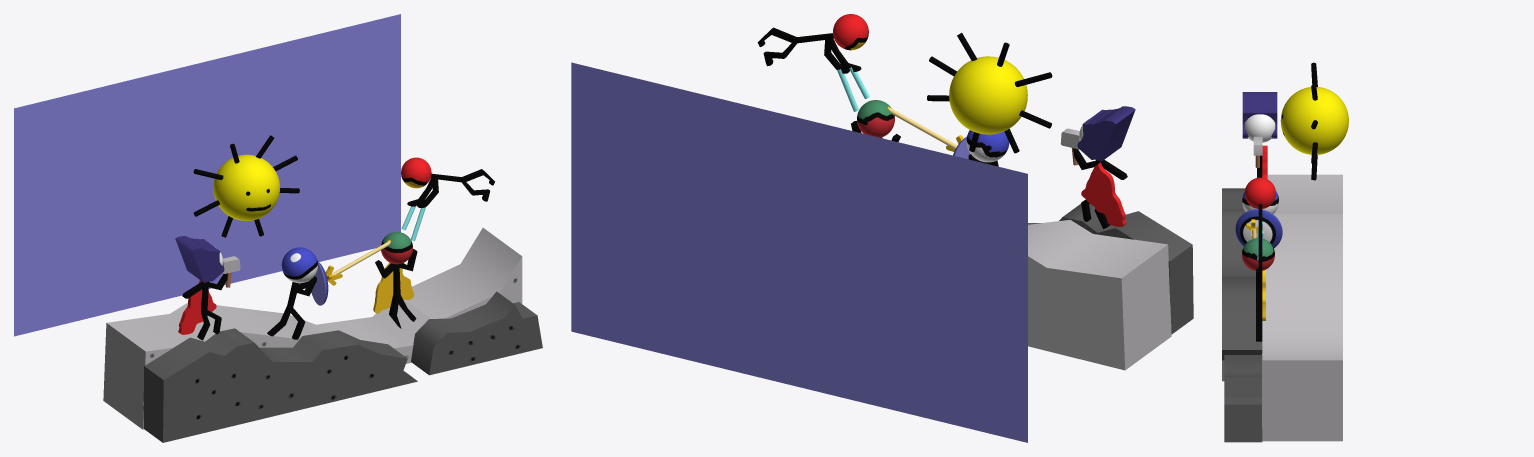
Rendered from stickman.fbx.
3 views of the same model, side by side, from view 1: azimuth 30°, elevation 25°; view 2: azimuth 150°, elevation 25°; view 3: azimuth 270°, elevation 25° (orthographic). The views are drawn at different scales.
Visible parts, largest first — view 1: root (×15); view 2: root (×11); view 3: root (×11).
Boxes of the visible parts, left/top/right/bottom form: root (×15): left=14, top=14, right=542, bottom=442; root (×11): left=571, top=14, right=1193, bottom=442; root (×11): left=1222, top=87, right=1348, bottom=442.
Size of the model in its own units: 1.2 by 0.7084 by 0.7785.
Materials: 24 (18 with a texture image).
